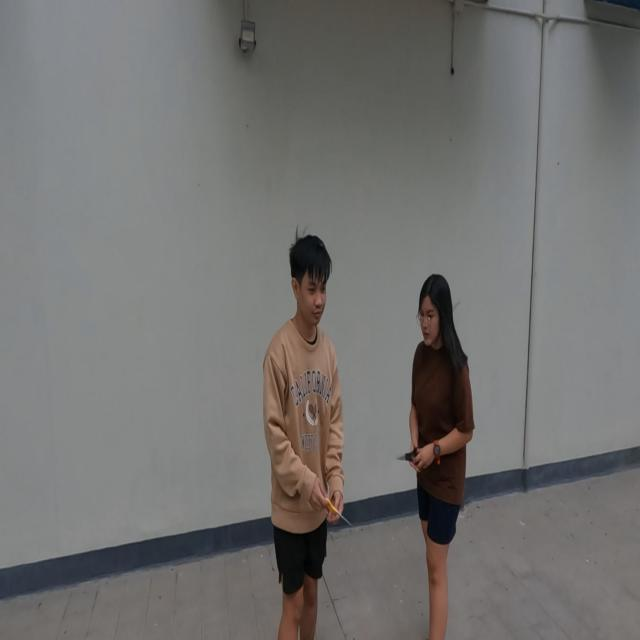scissor: (396, 445, 420, 469)
